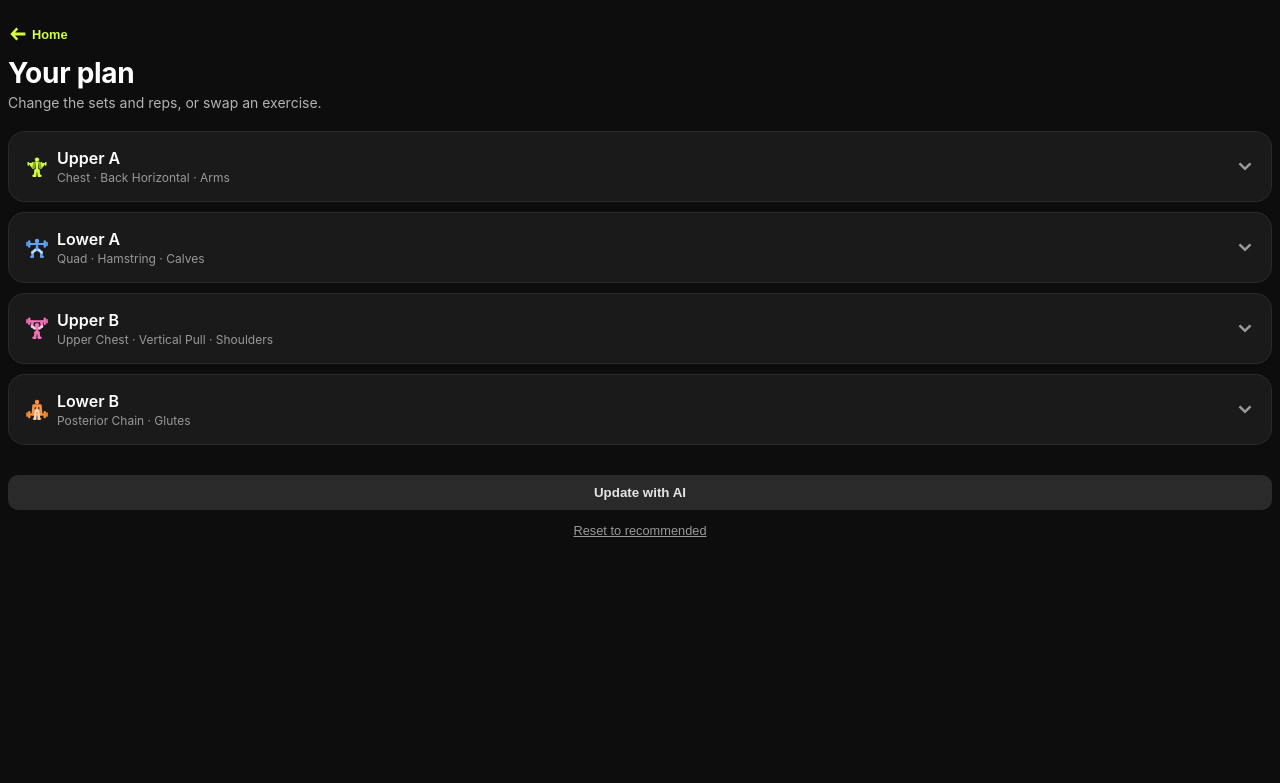
Test: Plan editing › saves changed sets and reps as a confirmed modify envelope, then refetches the plan
The width and height of the screenshot is (1280, 783).
What coordinates should you click on to do the following:
click the button "Upper A Chest · Back Horizontal · Arms"
I would click on:
 (89, 158)
Its box is [9,132,1271,201].
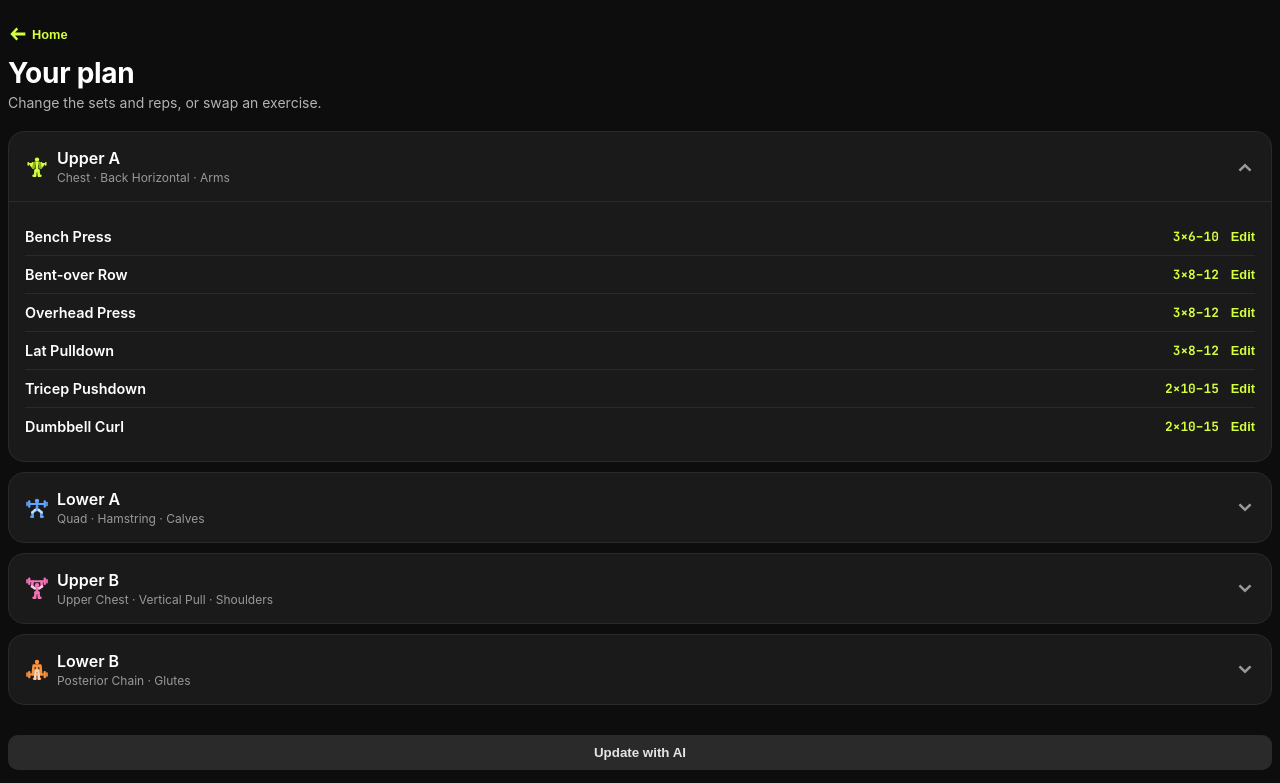
What coordinates should you click on to do the following:
click the button "Edit" in the row of "Bench Press"
I would click on:
 (1243, 236)
Its box is [1231,229,1255,244].
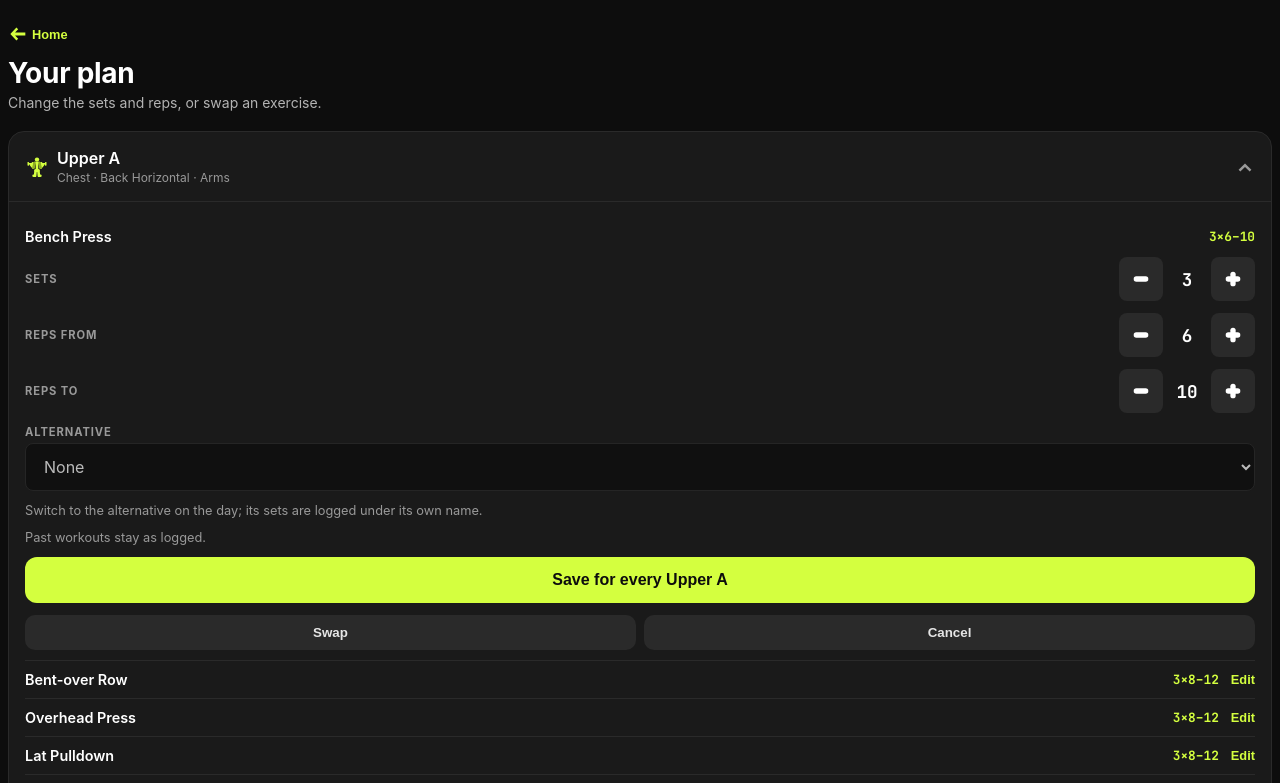
What coordinates should you click on to do the following:
click the button named "increase Sets"
I would click on:
 (1233, 279)
Its box is [1211,257,1255,301].
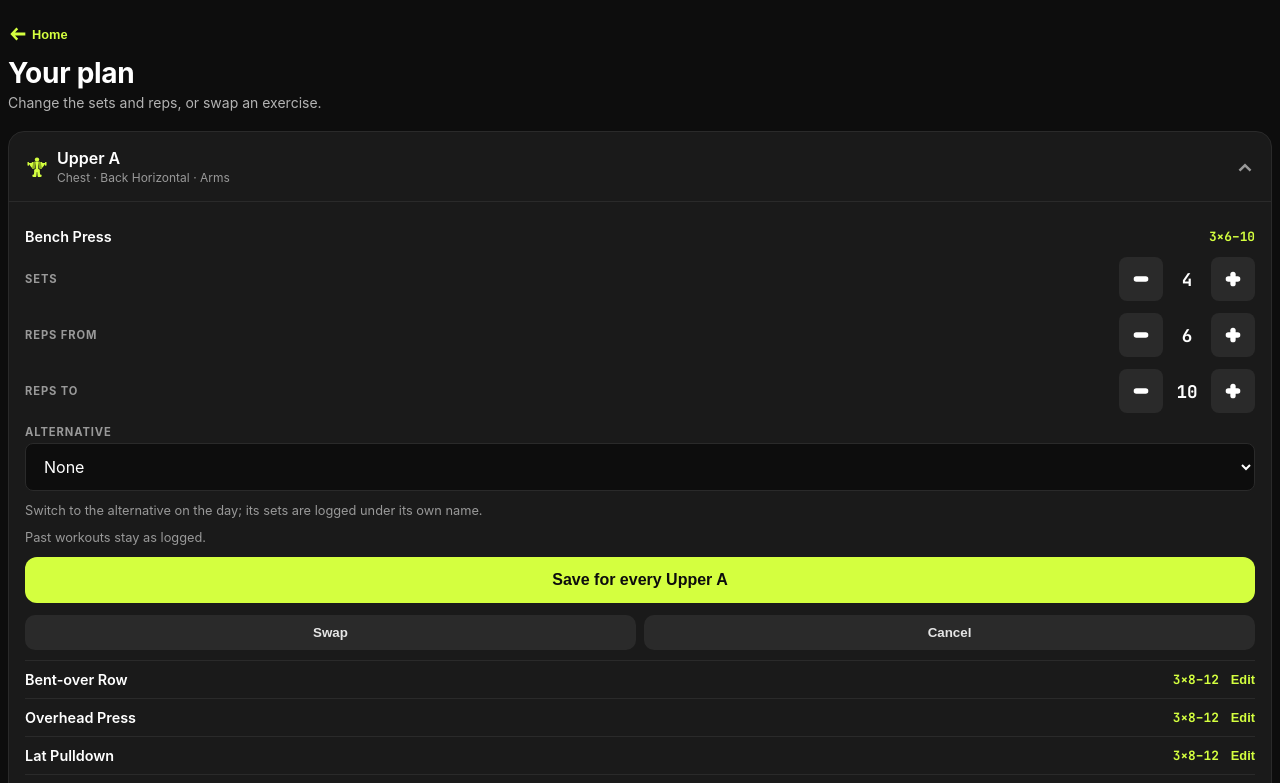
What coordinates should you click on to do the following:
click the button named "decrease Reps from"
I would click on:
 (1141, 335)
Its box is [1119,313,1163,357].
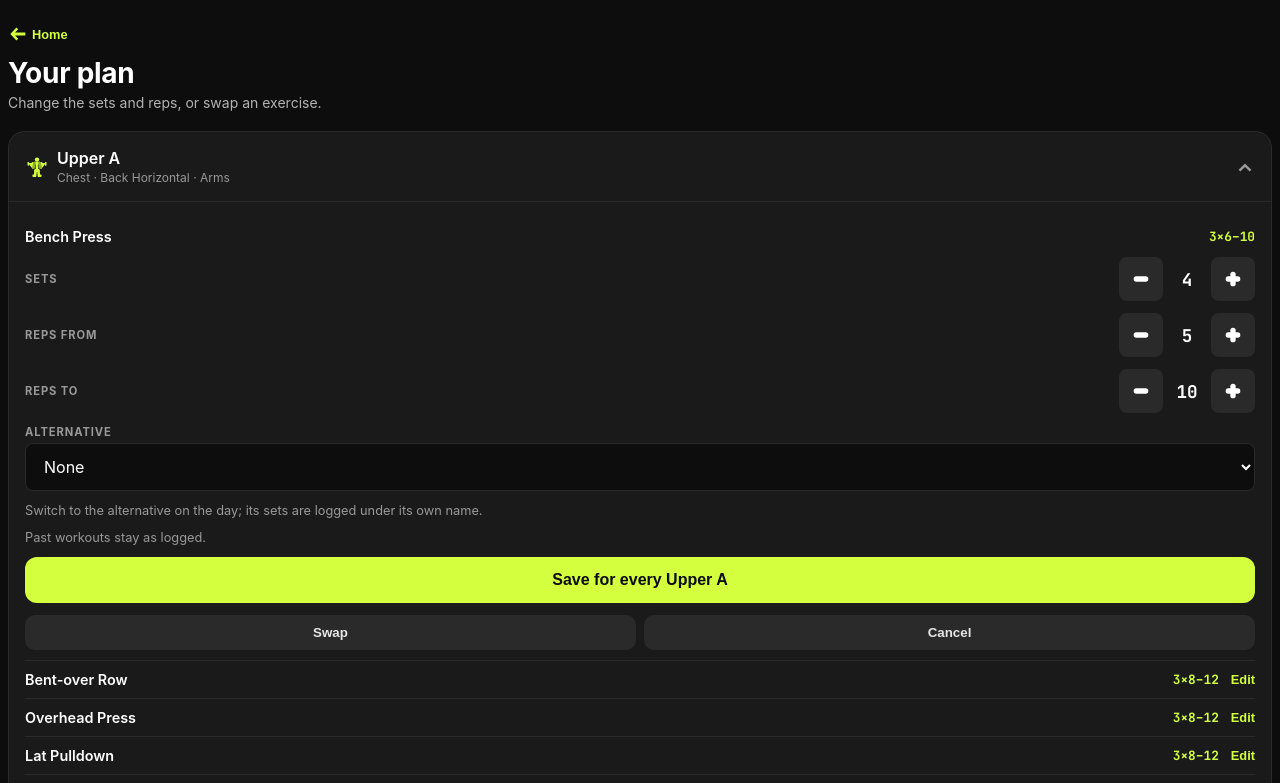
What coordinates should you click on to do the following:
click the button "Save for every Upper A"
I would click on:
 (640, 580)
Its box is [25,557,1255,603].
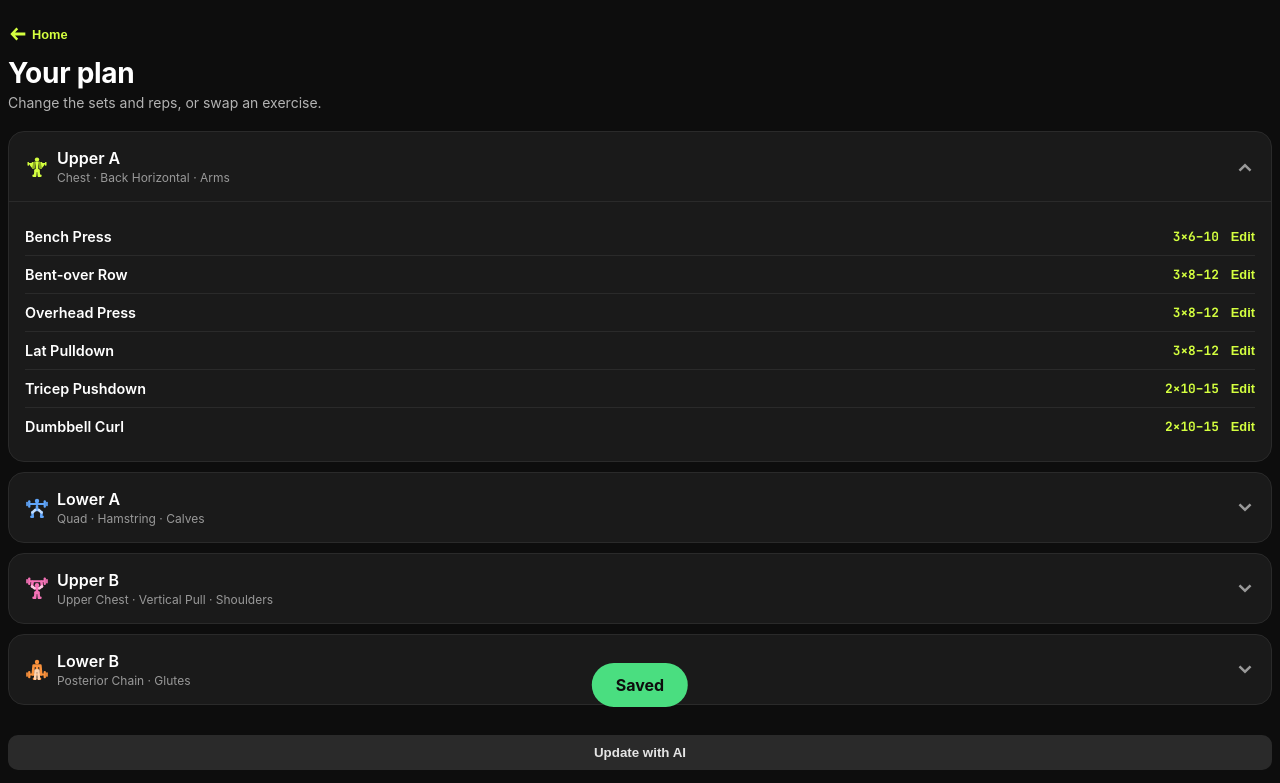
Check: the button "Save for every Upper A" is gone
